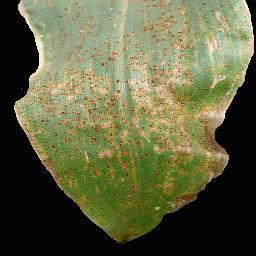Corn_Common_Rust: (119, 0, 256, 246), (12, 0, 120, 241)
